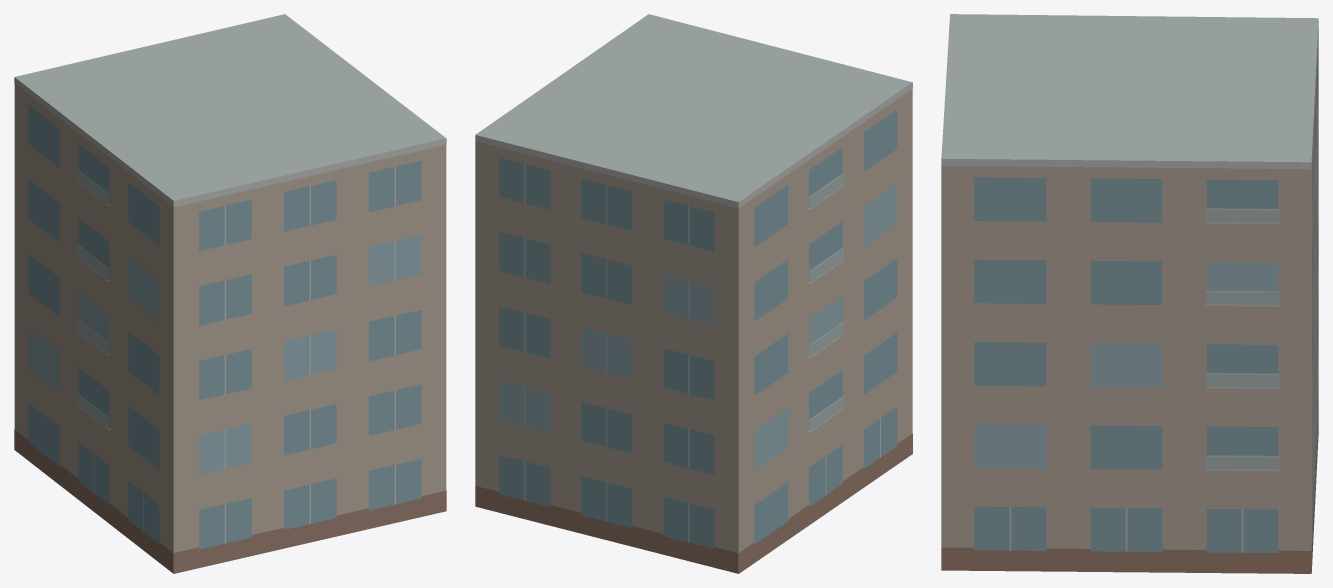
Rendered from survey-upis-32832905.glb.
3 renders of one model, left to right at view 1: azimuth 30°, elevation 25°; view 2: azimuth 150°, elevation 25°; view 3: azimuth 270°, elevation 25°, orthographic. The views are drawn at different scales.
Visible parts, largest first — view 1: survey-upis-32832905.tmp; view 2: survey-upis-32832905.tmp; view 3: survey-upis-32832905.tmp.
Boxes of the visible parts, x1,y1,x2,y2 form: survey-upis-32832905.tmp: [14, 14, 446, 573]; survey-upis-32832905.tmp: [475, 14, 912, 573]; survey-upis-32832905.tmp: [941, 14, 1318, 573].
Size of the model in its own units: 11.1 by 14.35 by 11.93.
